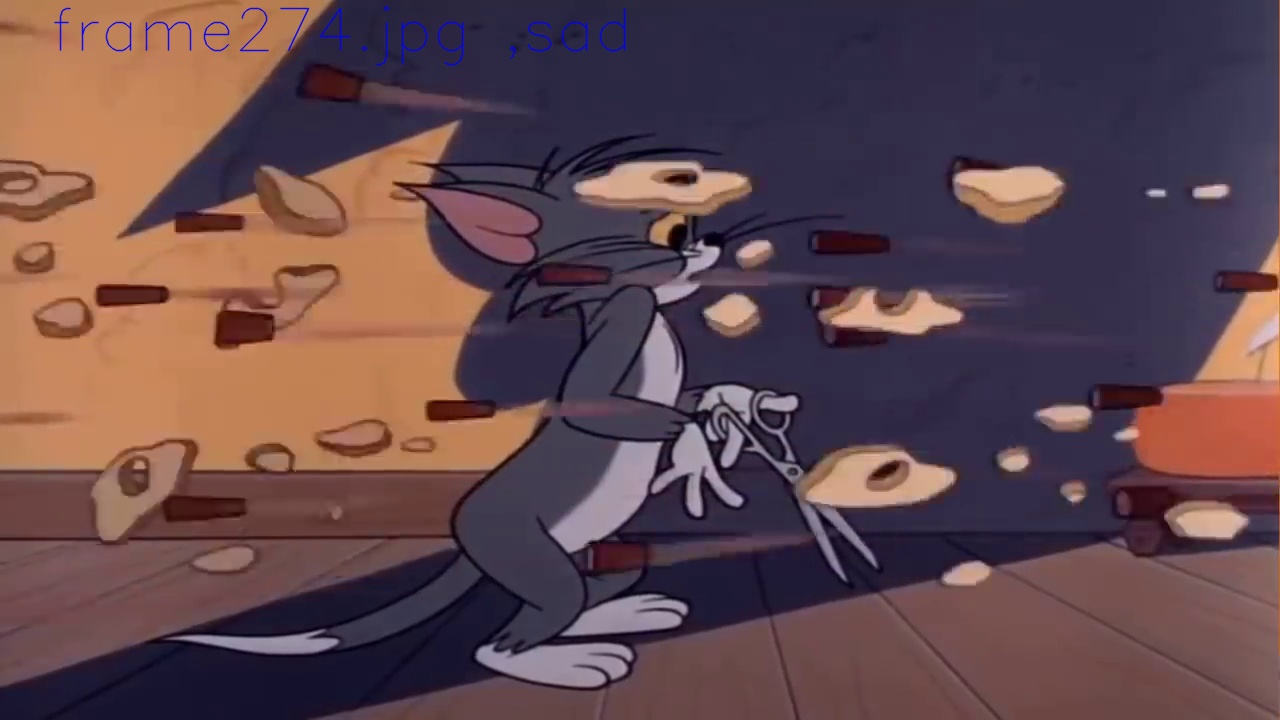sad: (637, 172, 713, 303)
